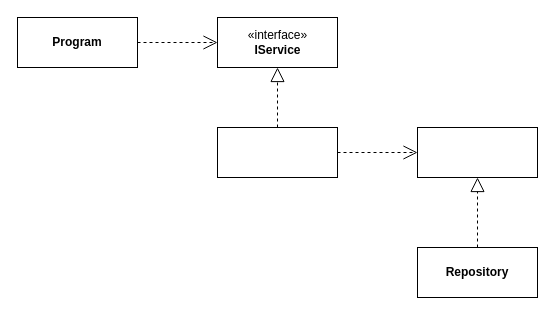
This 555x315 diagram has some shape labels left out. Here are the shapes that lost their labels. From the top down, the box of each, then its label:
(216, 126, 338, 178): Service
(416, 126, 538, 178): «interface» IRepository
